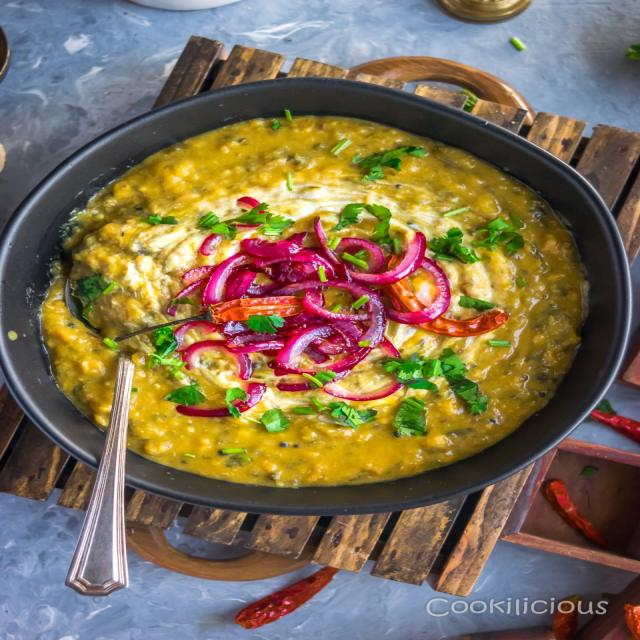dal: (96, 172, 528, 465)
